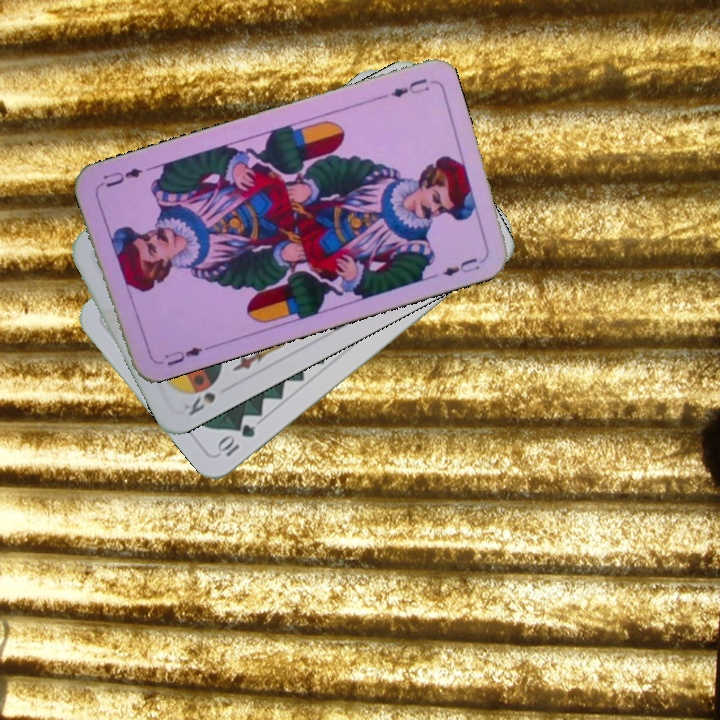EU: (374, 74, 433, 103), (160, 342, 211, 369)
G10: (213, 420, 258, 460)
SK: (184, 376, 221, 419)
